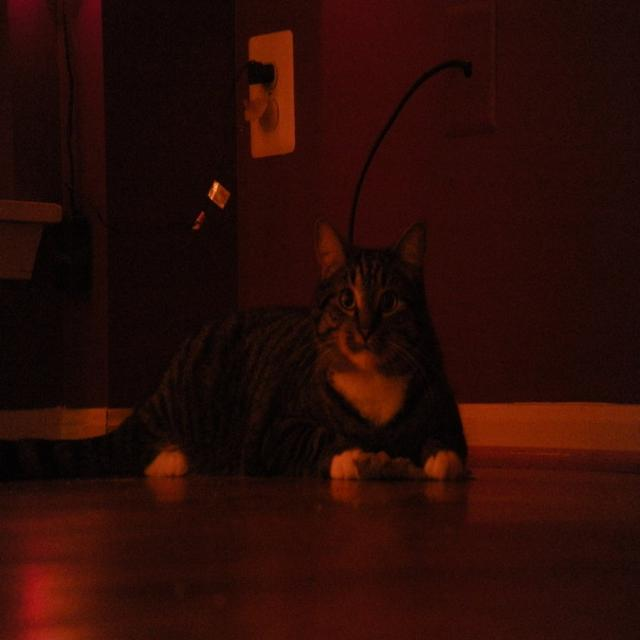Cat: (0, 206, 485, 508)
